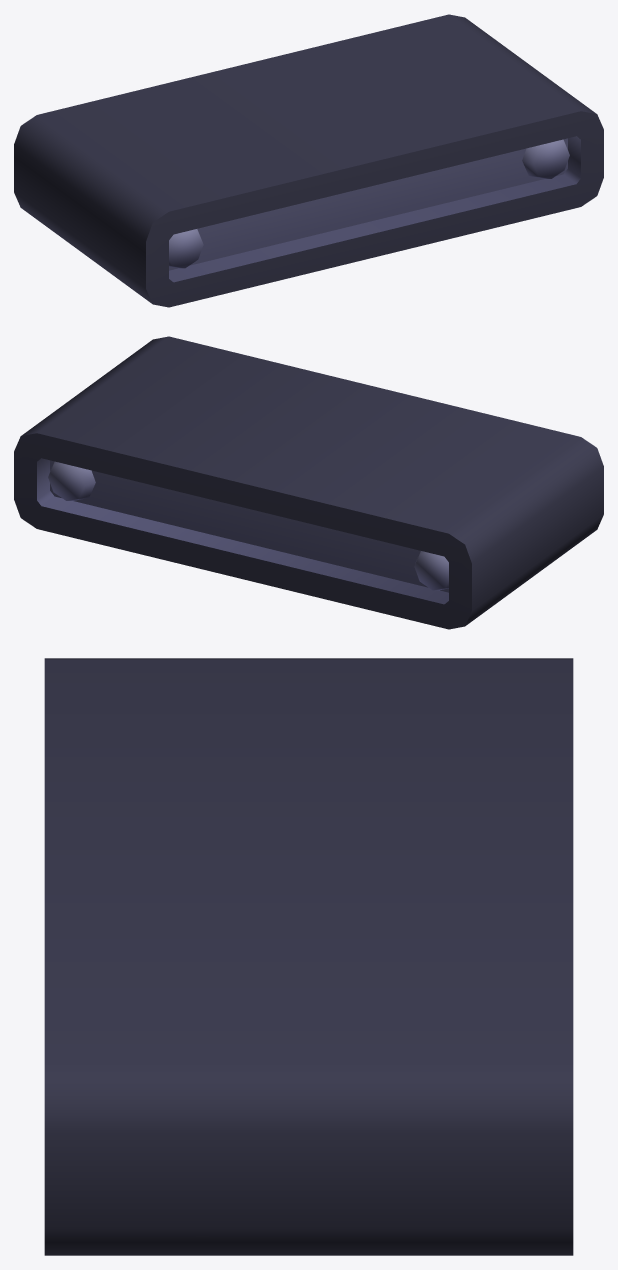
The model's file is conveyor-long.glb.
The picture shows the model from 3 angles, top to bottom: view 1: azimuth 30°, elevation 25°; view 2: azimuth 150°, elevation 25°; view 3: azimuth 270°, elevation 25°; orthographic projection. The views are drawn at different scales.
Visible parts, largest first — view 1: conveyor-long; view 2: conveyor-long; view 3: conveyor-long.
Part boxes in pixels (x1,y1,x2,y2): conveyor-long: [14, 14, 603, 307]; conveyor-long: [14, 336, 603, 629]; conveyor-long: [44, 658, 573, 1255].
Size of the model in its own units: 2 by 0.4 by 1.
